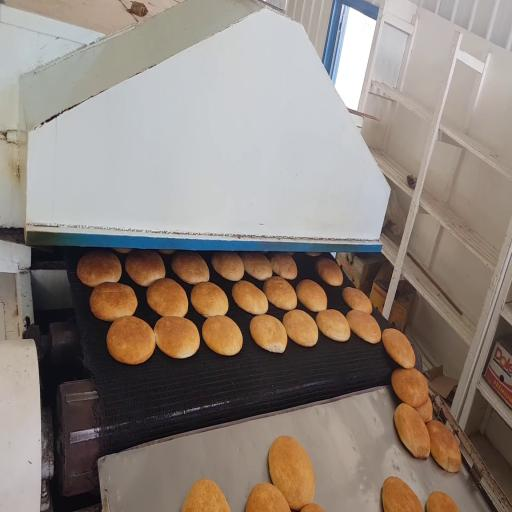bread: (269, 436, 314, 510), (107, 316, 155, 364), (394, 403, 430, 458), (154, 317, 199, 358), (426, 420, 461, 472), (90, 283, 137, 321), (77, 250, 121, 287), (202, 316, 242, 356), (147, 278, 188, 316), (182, 480, 230, 511), (250, 315, 287, 353), (125, 251, 165, 286), (382, 477, 423, 511), (392, 369, 428, 407), (191, 282, 228, 317), (283, 310, 318, 347), (382, 329, 415, 368), (246, 483, 290, 511), (232, 281, 268, 314), (172, 252, 209, 284), (264, 276, 297, 310), (347, 310, 381, 343), (316, 310, 350, 341), (296, 280, 327, 312), (211, 252, 244, 281), (241, 253, 272, 280), (316, 257, 343, 286), (343, 287, 372, 314), (270, 253, 297, 279), (426, 492, 459, 511), (416, 397, 433, 423), (301, 504, 324, 511), (114, 248, 131, 254), (159, 249, 175, 255), (306, 253, 321, 256)
